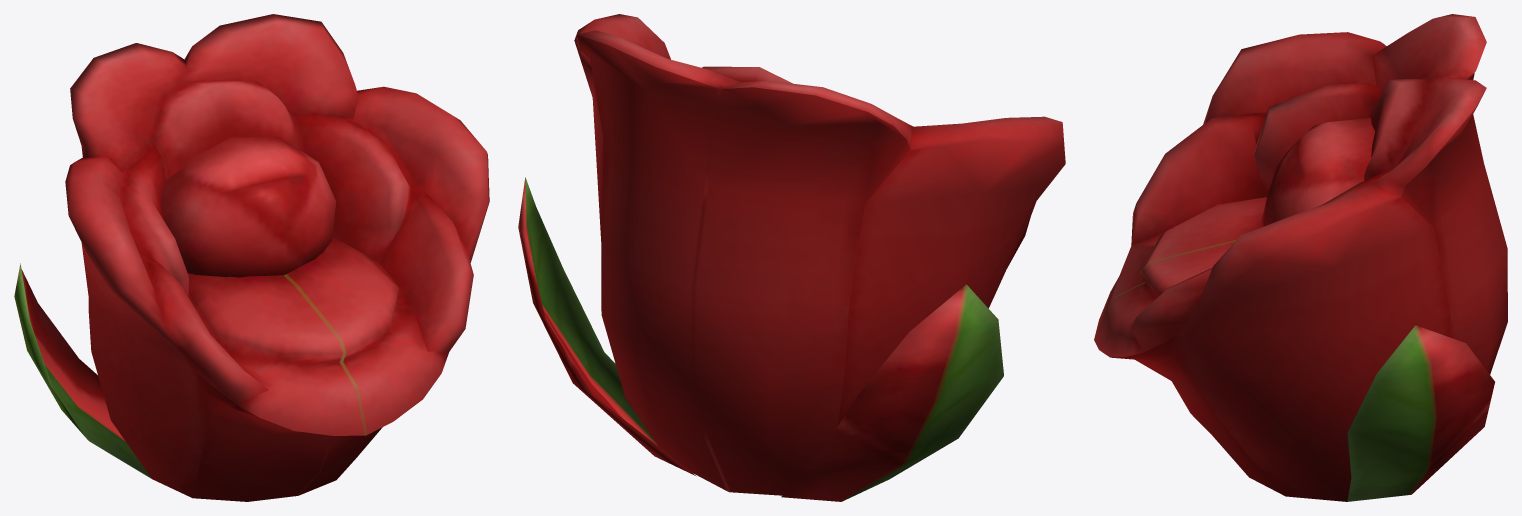
File: rmk_flo_chairS.dae
The picture shows the model from 3 angles, left to right: view 1: azimuth 30°, elevation 25°; view 2: azimuth 150°, elevation 25°; view 3: azimuth 270°, elevation 25°; orthographic projection. The views are drawn at different scales.
Visible parts, largest first — view 1: rmk_flo_chairS; view 2: rmk_flo_chairS; view 3: rmk_flo_chairS.
Part boxes in pixels (left/top/right/bottom): rmk_flo_chairS: left=14, top=14, right=489, bottom=501; rmk_flo_chairS: left=518, top=14, right=1065, bottom=501; rmk_flo_chairS: left=1094, top=14, right=1507, bottom=501.
Bounding box in the file's own units: 31.02 × 27.8 × 26.55.
Materials: 1 (1 with a texture image).
